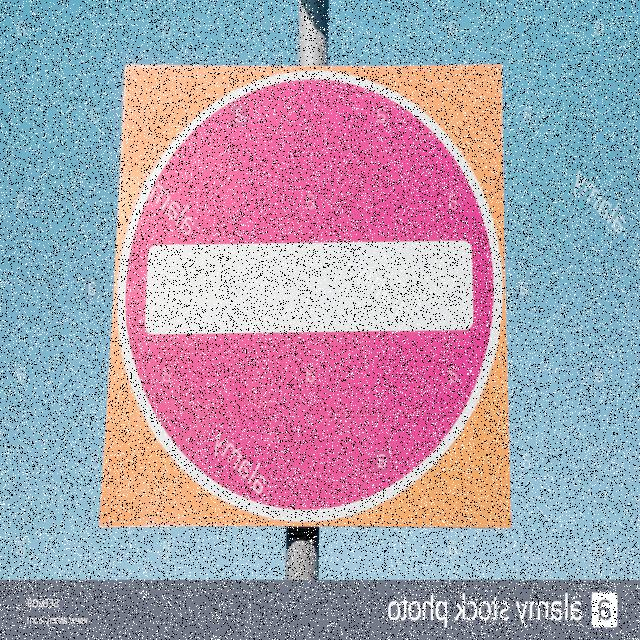no entry: (120, 74, 501, 518)
